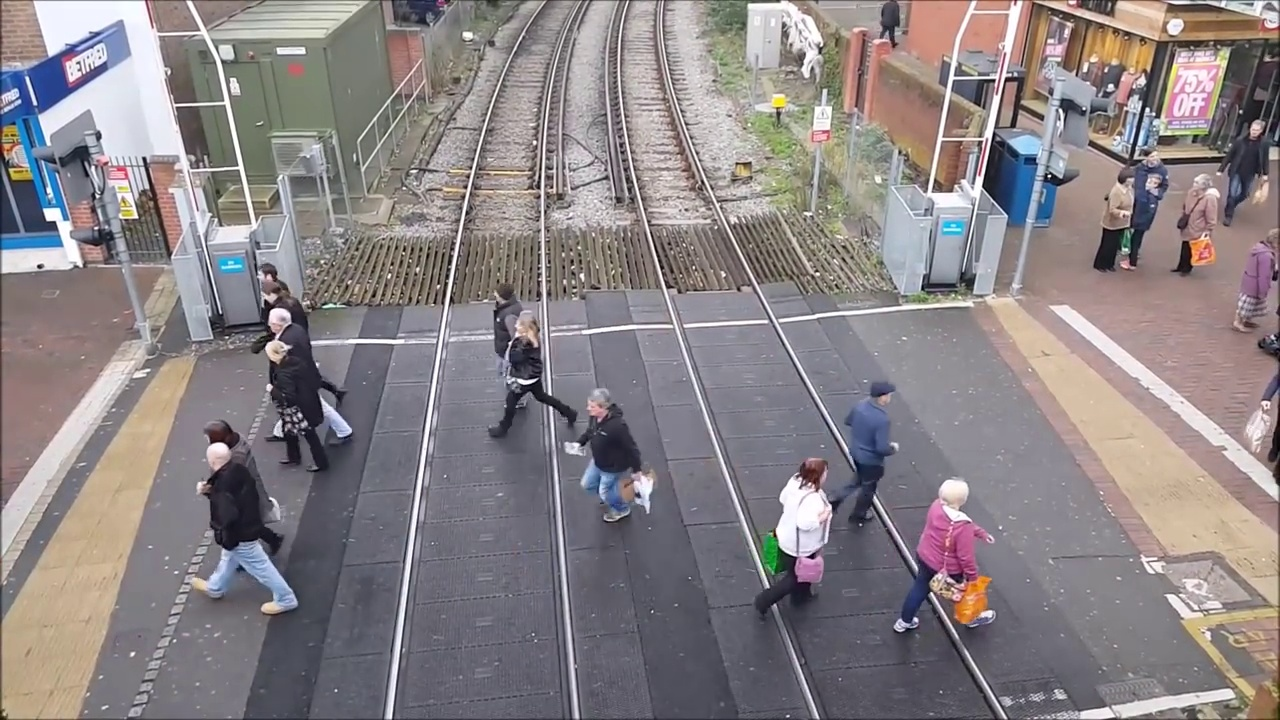person: (186, 425, 296, 612), (263, 287, 342, 472), (907, 487, 997, 634), (762, 459, 838, 613), (563, 395, 647, 522), (830, 387, 890, 535), (486, 302, 552, 435), (1237, 199, 1278, 377), (1120, 154, 1181, 273), (1093, 159, 1155, 274), (1168, 160, 1229, 274), (1247, 313, 1280, 491)
